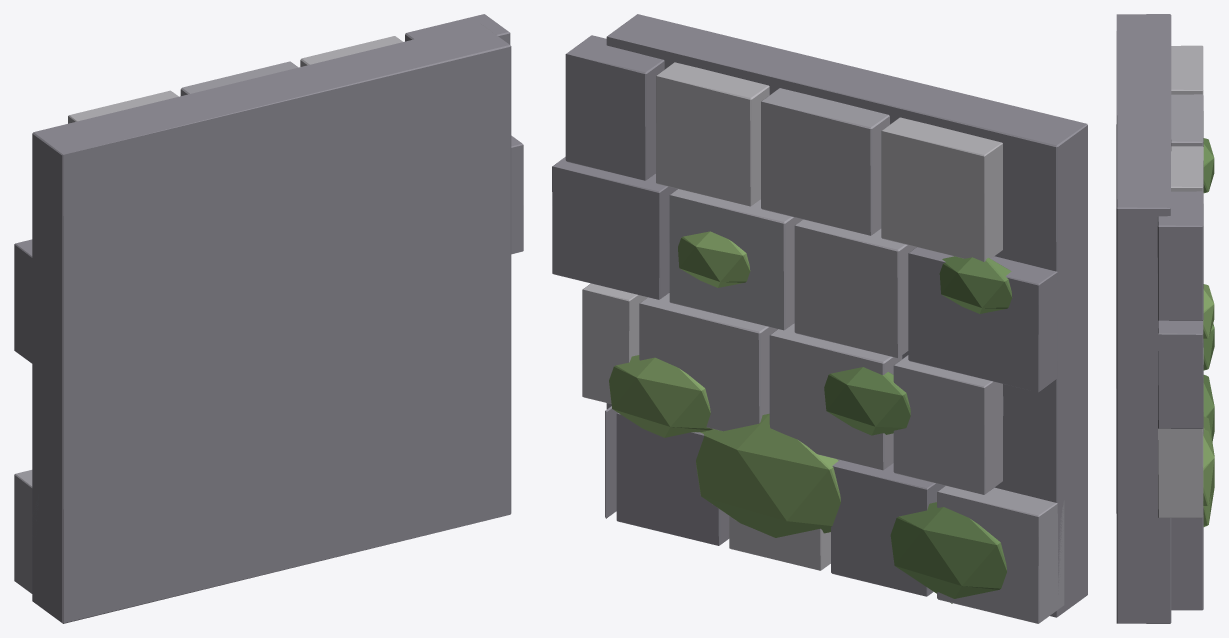
File: dgn_wall_mossy.glb
3 views of the same model, side by side, from view 1: azimuth 30°, elevation 25°; view 2: azimuth 150°, elevation 25°; view 3: azimuth 270°, elevation 25° (orthographic). The views are drawn at different scales.
Visible parts, largest first — view 1: dgn_wall_mossy; view 2: dgn_wall_mossy; view 3: dgn_wall_mossy.
Part boxes in pixels (x1,y1,x2,y2): dgn_wall_mossy: [14, 14, 523, 623]; dgn_wall_mossy: [552, 14, 1087, 623]; dgn_wall_mossy: [1116, 14, 1214, 623].
Bounding box in the file's own units: 1.08 × 1 × 0.214.
